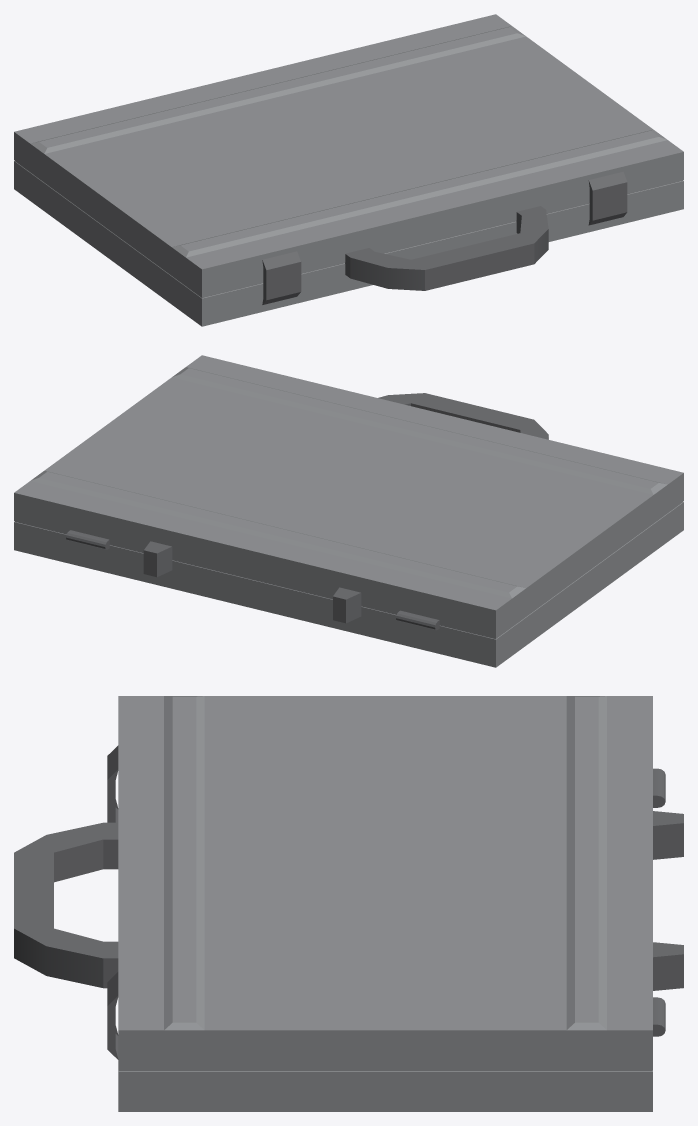
The model's file is Item Case 1.fbx.
3 renders of one model, top to bottom at view 1: azimuth 30°, elevation 25°; view 2: azimuth 150°, elevation 25°; view 3: azimuth 270°, elevation 25°, orthographic. The views are drawn at different scales.
Visible parts, largest first — view 1: Item_Case; view 2: Item_Case; view 3: Item_Case.
Boxes of the visible parts, x1,y1,x2,y2 form: Item_Case: (14,14,683,326); Item_Case: (14,355,683,667); Item_Case: (14,696,683,1111).
Size of the model in its own units: 62.95 by 7.78 by 53.31.
